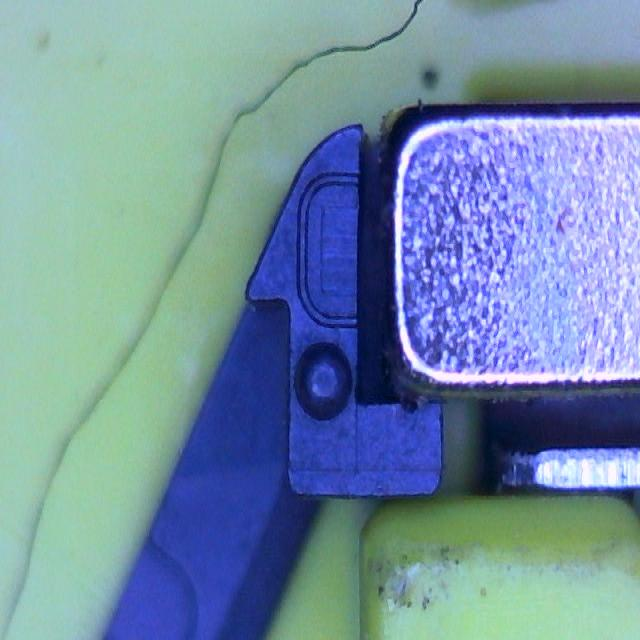noResin: (295, 170, 364, 332)
